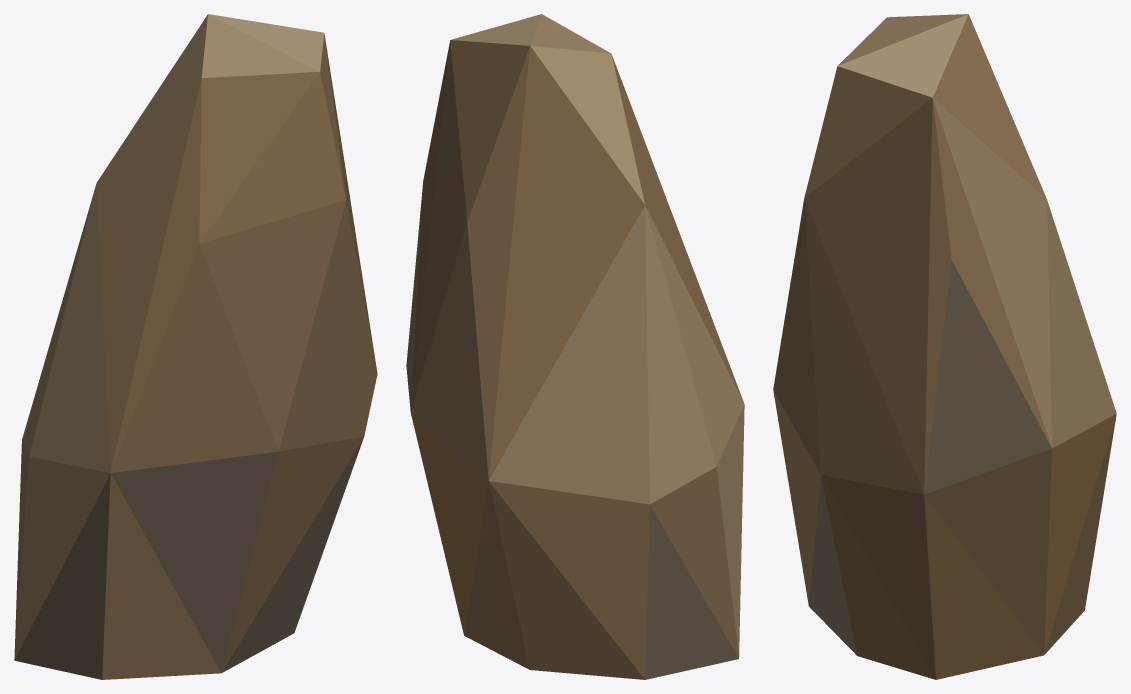
The picture shows the model from 3 angles, left to right: view 1: azimuth 30°, elevation 25°; view 2: azimuth 150°, elevation 25°; view 3: azimuth 270°, elevation 25°; orthographic projection. The views are drawn at different scales.
Visible parts, largest first — view 1: r03; view 2: r03; view 3: r03.
Boxes of the visible parts, bbox=[...] form: r03: bbox=[14, 14, 377, 679]; r03: bbox=[406, 14, 744, 679]; r03: bbox=[773, 14, 1116, 679].
Bounding box in the file's own units: 0.7647 × 1.22 × 0.6082.
